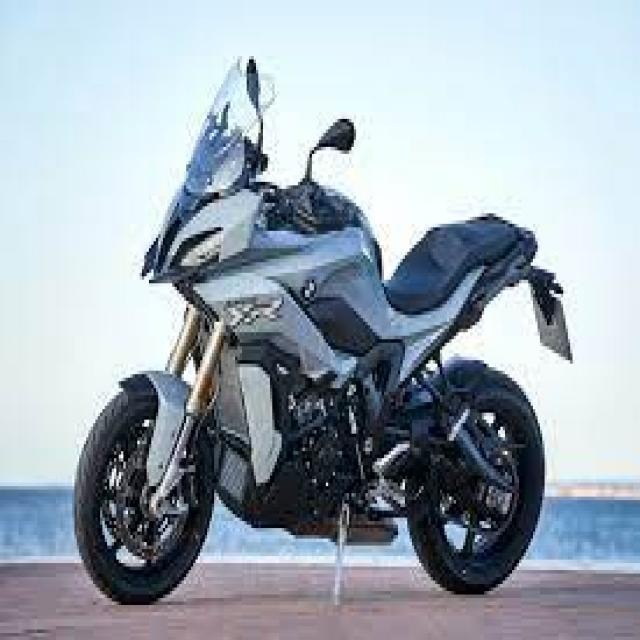Bike: (71, 52, 573, 604)
